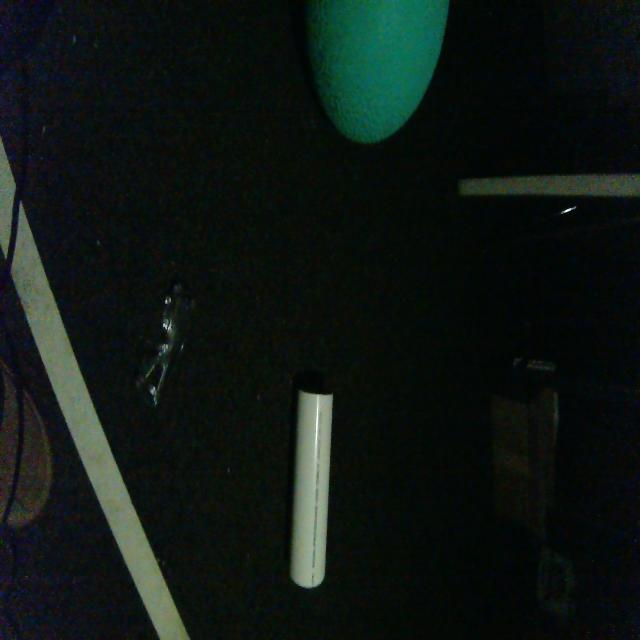algae: (302, 0, 452, 151)
coral: (285, 378, 337, 591)
